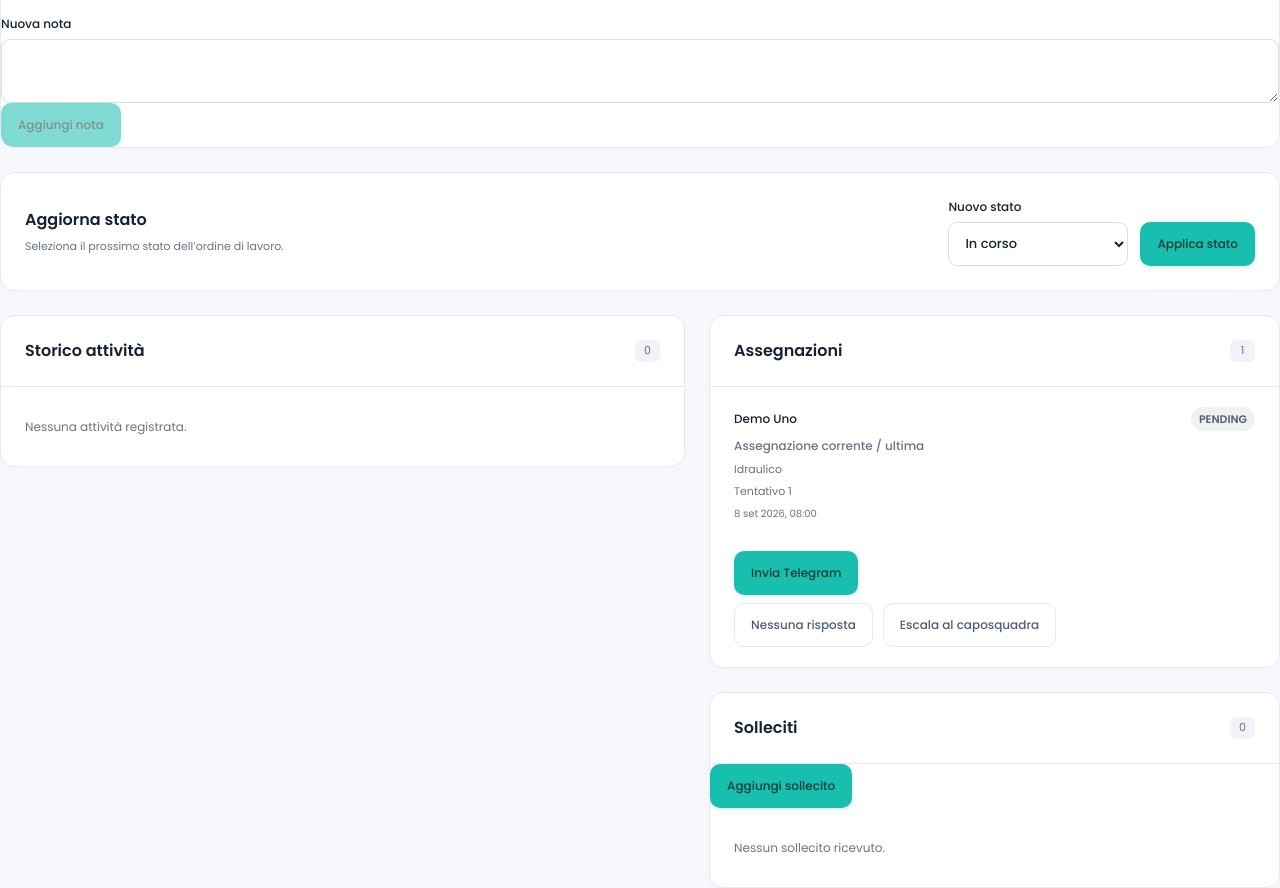
it: advances pending via no-response and displays its successor
(page scrolled)
Expected: the text "Demo Uno" is shown, 734,409 -> 797,428
Click the button "Nessuna risposta" at (803, 625), box 734,603 -> 873,647
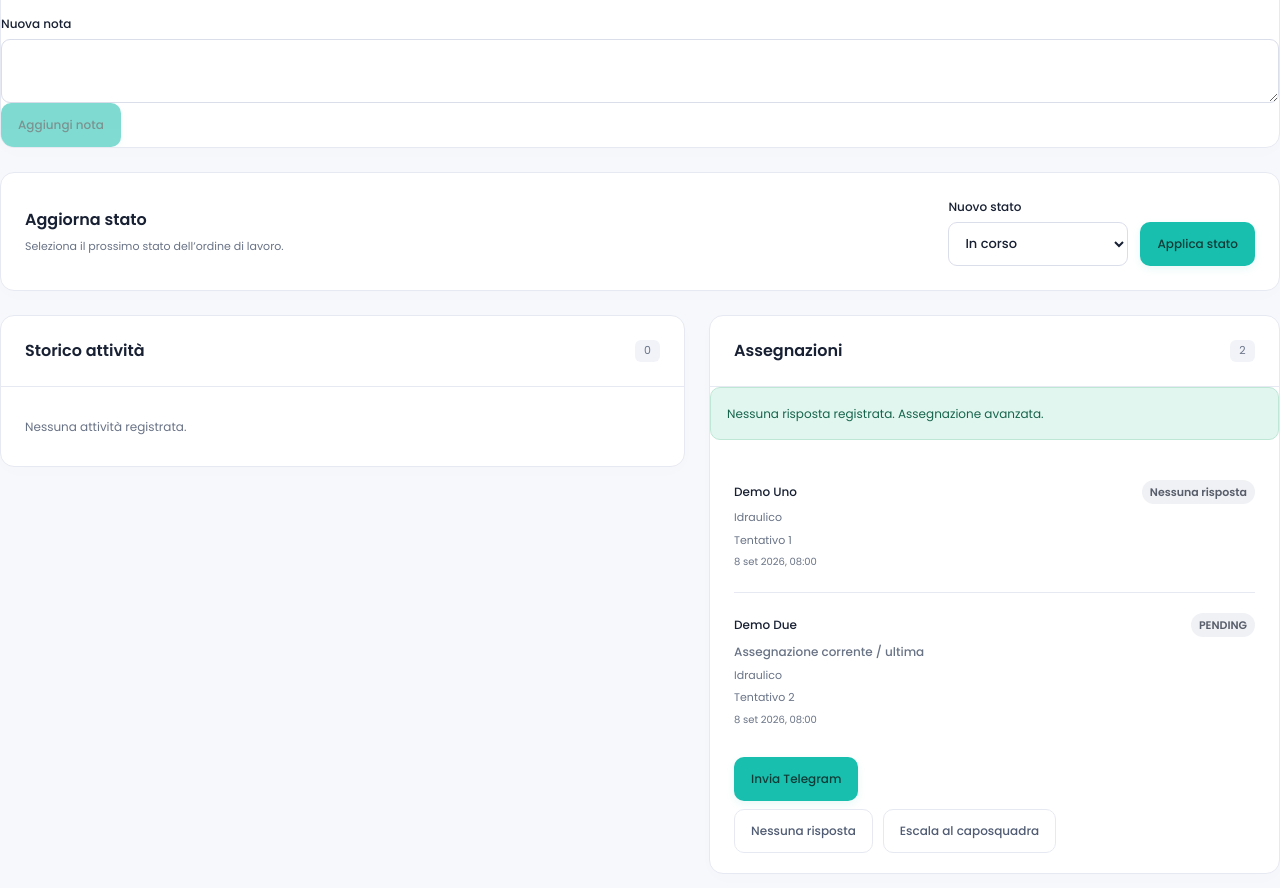
Expected: the number of buttons "Invia Telegram" is 1, 734,758 -> 858,802
Now the text "Demo Due" is shown, box 734,615 -> 797,635
